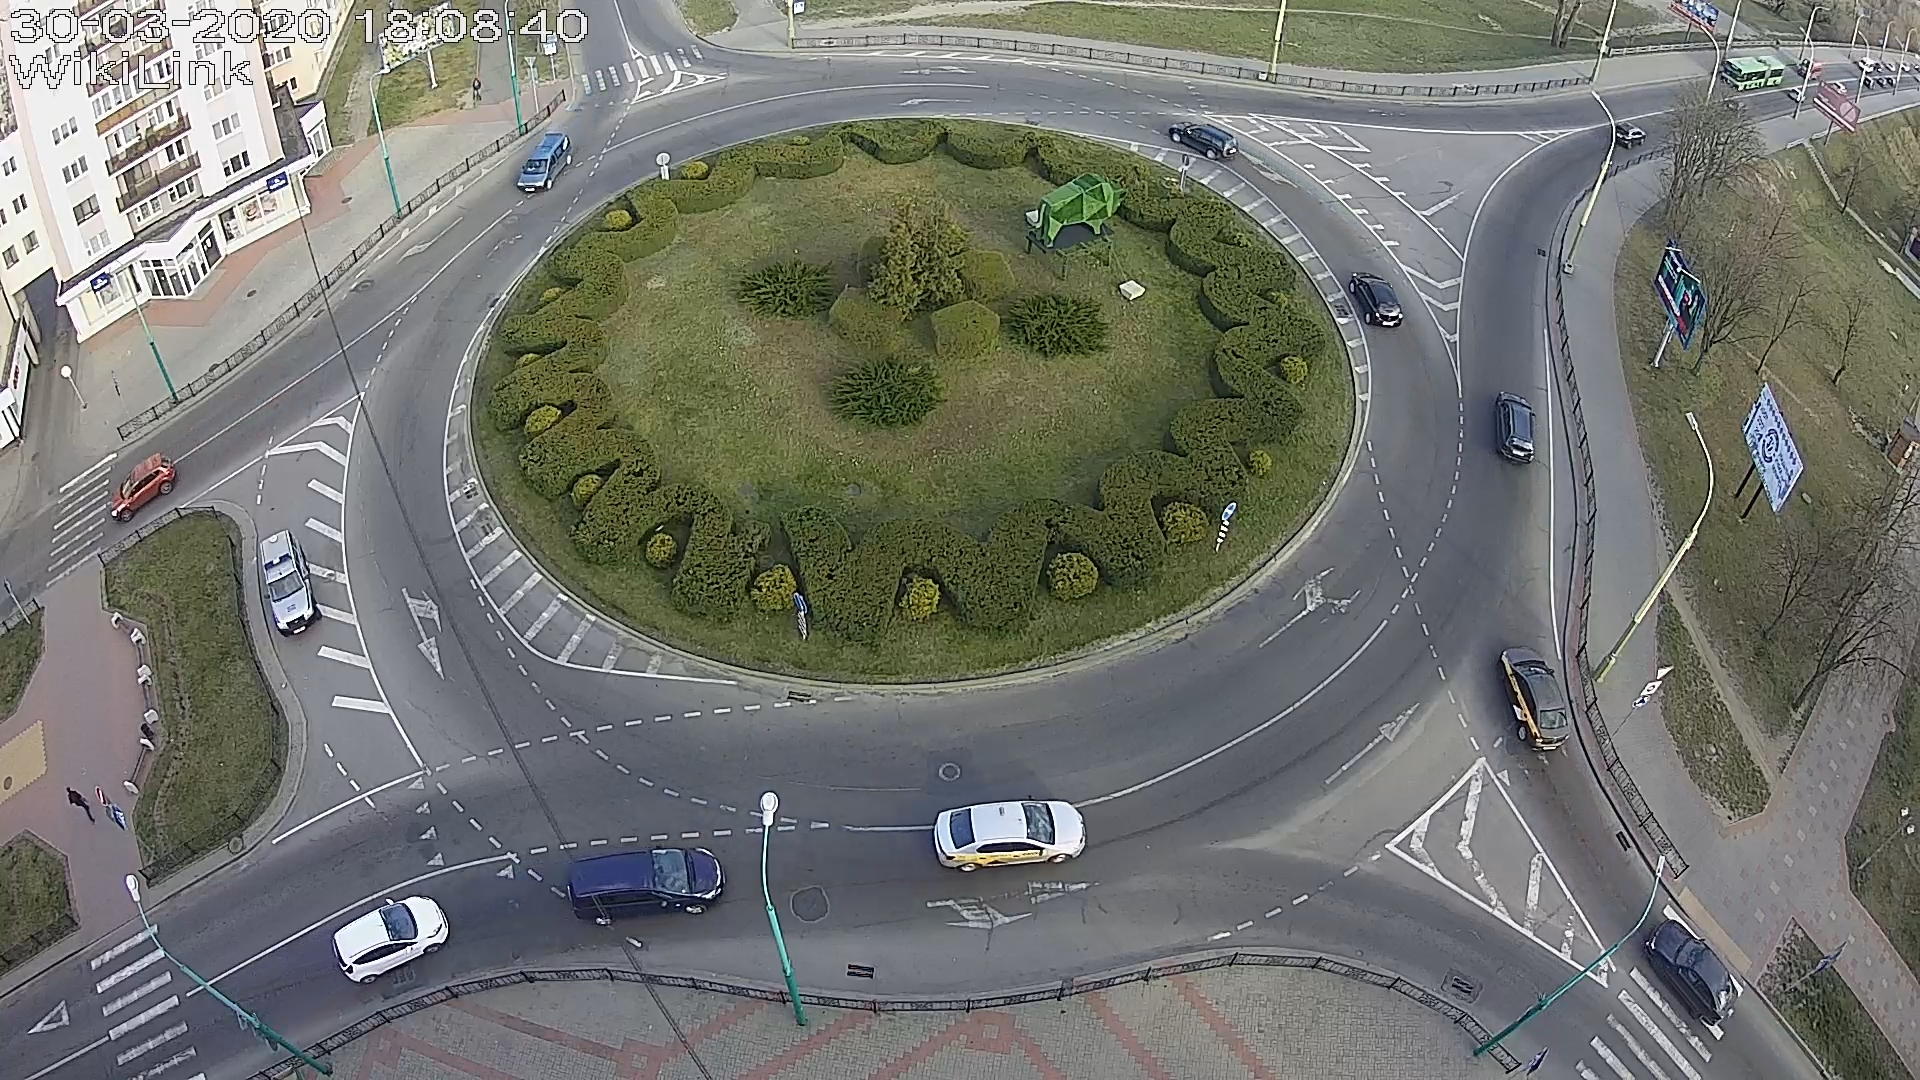car: (567, 847, 725, 926), (934, 795, 1087, 872), (332, 895, 448, 985), (1644, 919, 1738, 1025), (1497, 646, 1572, 752), (260, 529, 322, 637), (109, 452, 177, 522), (517, 131, 576, 193), (1348, 272, 1403, 328), (1494, 392, 1536, 464), (1168, 123, 1240, 160), (1614, 123, 1647, 149)
